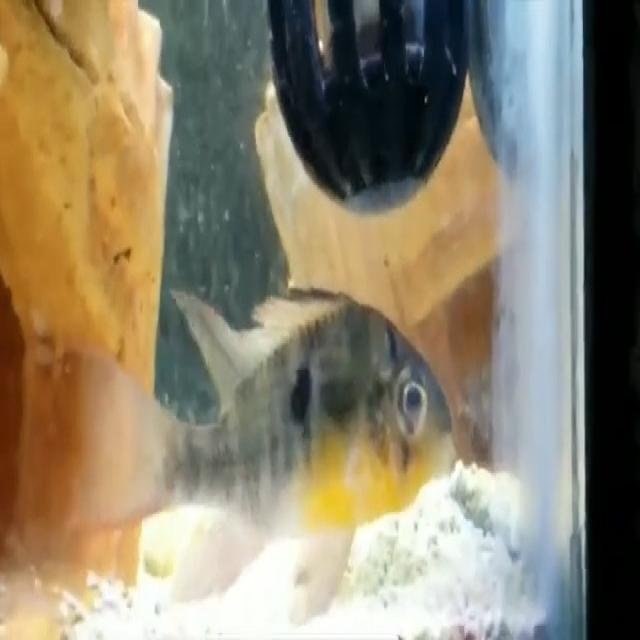fish: (76, 274, 463, 612)
